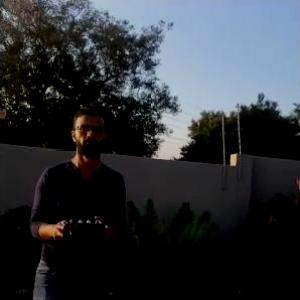follow: (24, 103, 129, 299)
